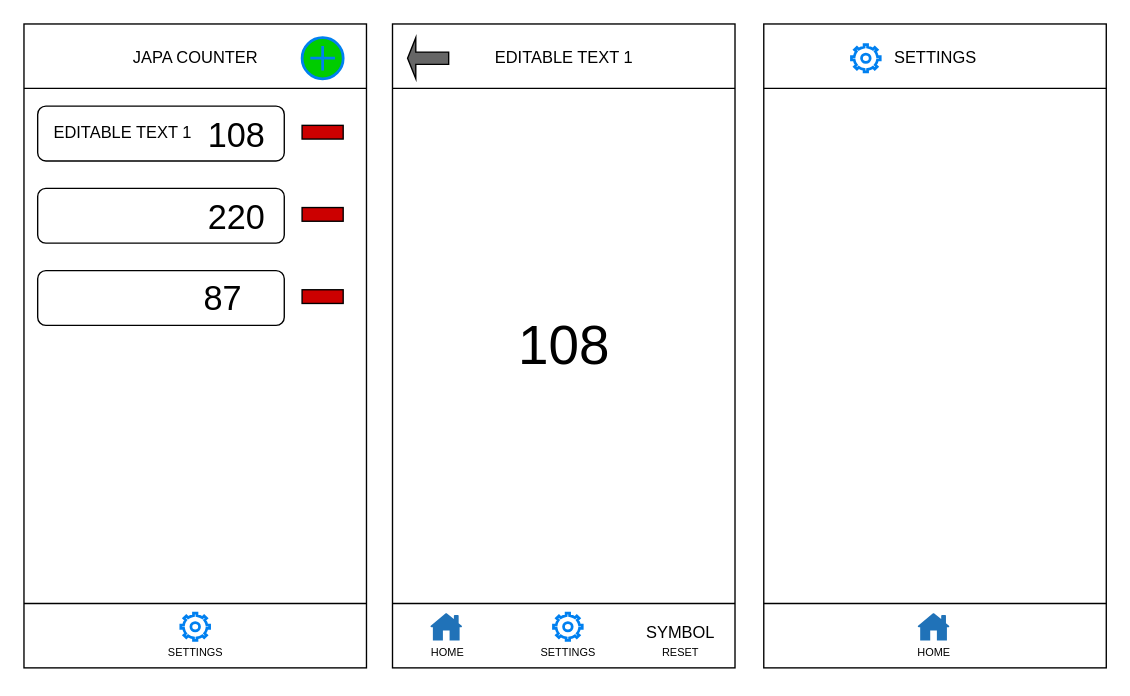
The diagram is 1130 pixels wide and 696 high, and some of its shapes have lost their labels. The shapes that lost their labels are listed below. From the top down, each one's box as (x1, y1, x2, y2) in pixels, then its label:
(36, 187, 284, 243): EDITABLE TEXT 2
(36, 269, 284, 325): EDITABLE TEXT 3
